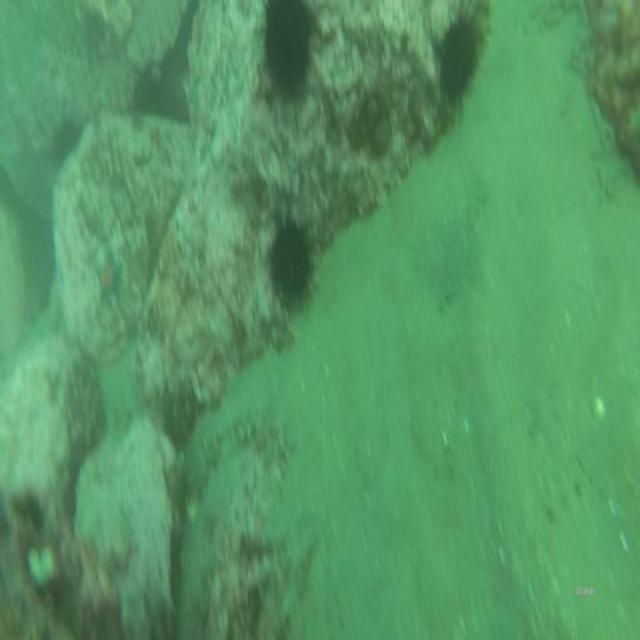echinus: (258, 2, 324, 112), (268, 215, 314, 316), (437, 8, 483, 109)
starfish: (92, 248, 126, 308)
